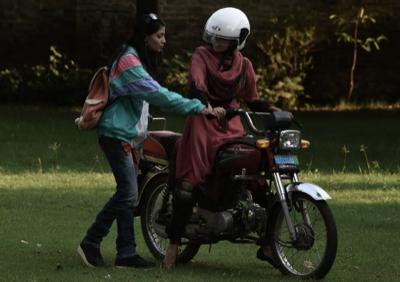With Helmet: (205, 5, 249, 50)
